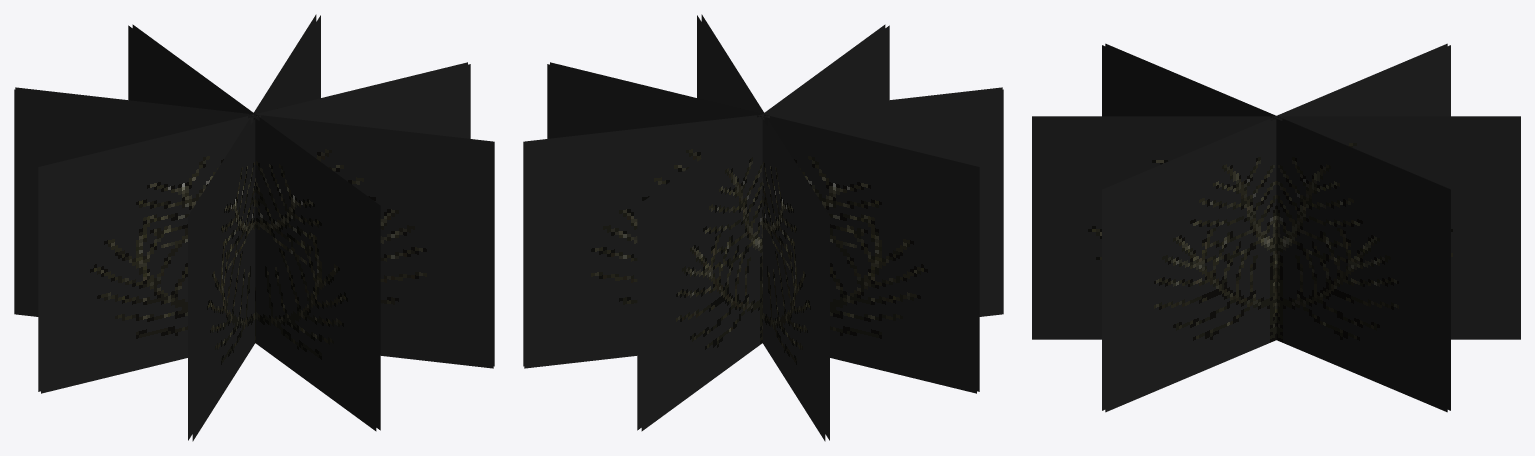
File: bush06_winter.glb
The picture shows the model from 3 angles, left to right: view 1: azimuth 30°, elevation 25°; view 2: azimuth 150°, elevation 25°; view 3: azimuth 270°, elevation 25°; orthographic projection.
Visible parts, largest first — view 1: bush06; view 2: bush06; view 3: bush06.
Boxes of the visible parts, x1,y1,x2,y2 form: bush06: (14,14,494,441); bush06: (523,14,1003,441); bush06: (1032,43,1520,412).
Bounding box in the file's own units: 3 × 1.5 × 3.
Materials: 1 (1 with a texture image).
